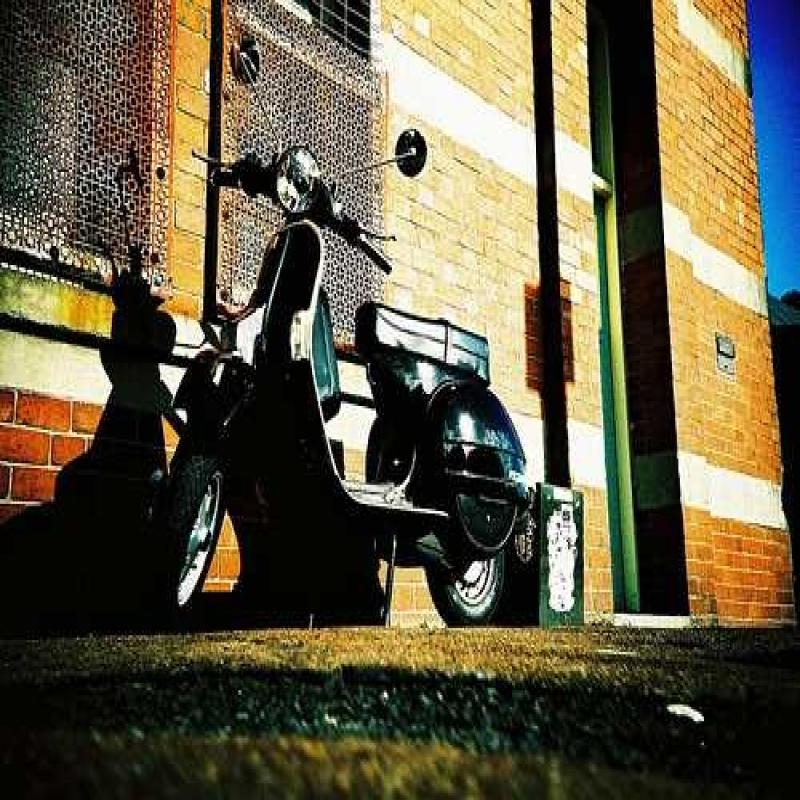bike: (172, 9, 538, 627)
